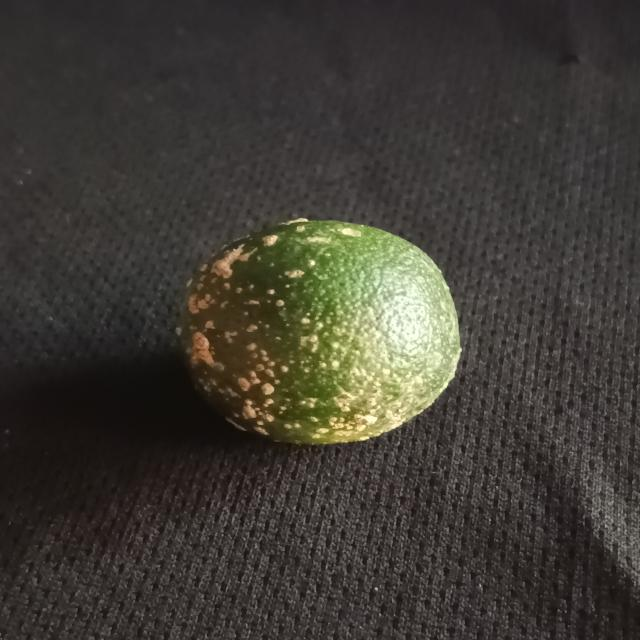scab: (168, 221, 464, 453)
